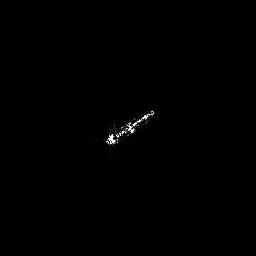ship: (105, 107, 156, 147)
